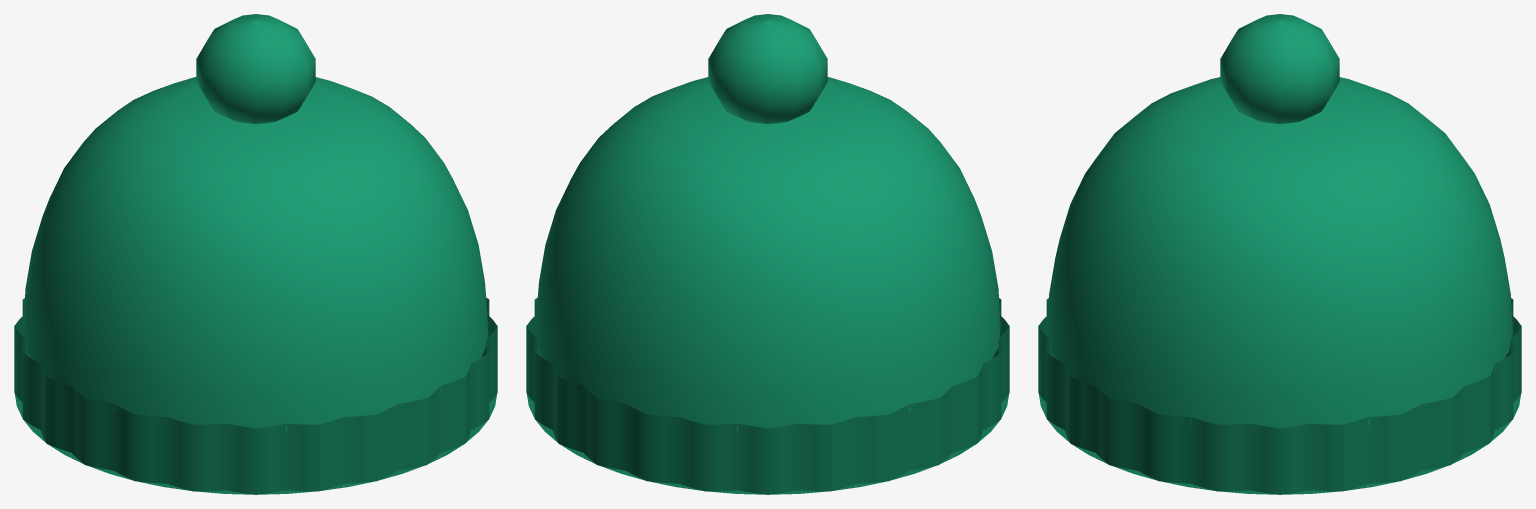
File: hat_beanie.glb
3 views of the same model, side by side, from view 1: azimuth 30°, elevation 25°; view 2: azimuth 150°, elevation 25°; view 3: azimuth 270°, elevation 25° (orthographic).
Parts seen in each view (by area): view 1: hat_beanie_q; view 2: hat_beanie_q; view 3: hat_beanie_q.
Part boxes in pixels (x1,y1,x2,y2): hat_beanie_q: (14,14,497,494); hat_beanie_q: (526,14,1009,494); hat_beanie_q: (1038,14,1521,494).
Size of the model in its own units: 2.36 by 2.01 by 2.36.
